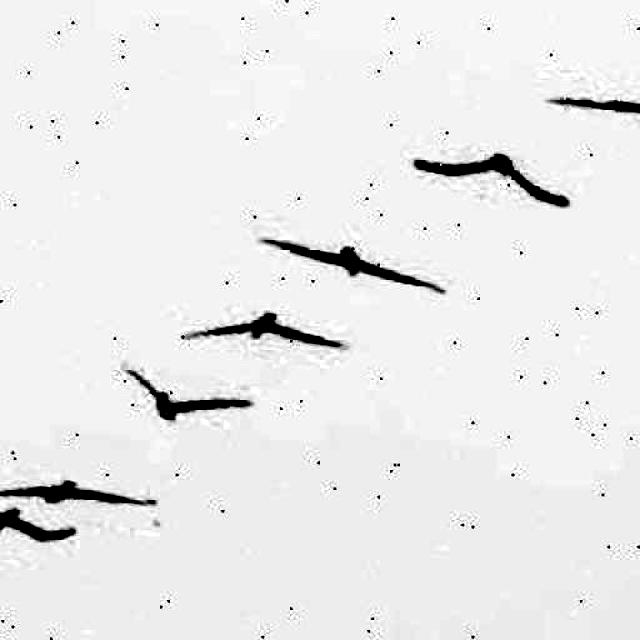airplane: (251, 228, 451, 295), (405, 136, 578, 210), (179, 296, 349, 368), (0, 460, 159, 532), (114, 364, 250, 438), (544, 72, 640, 145), (0, 496, 79, 558)
